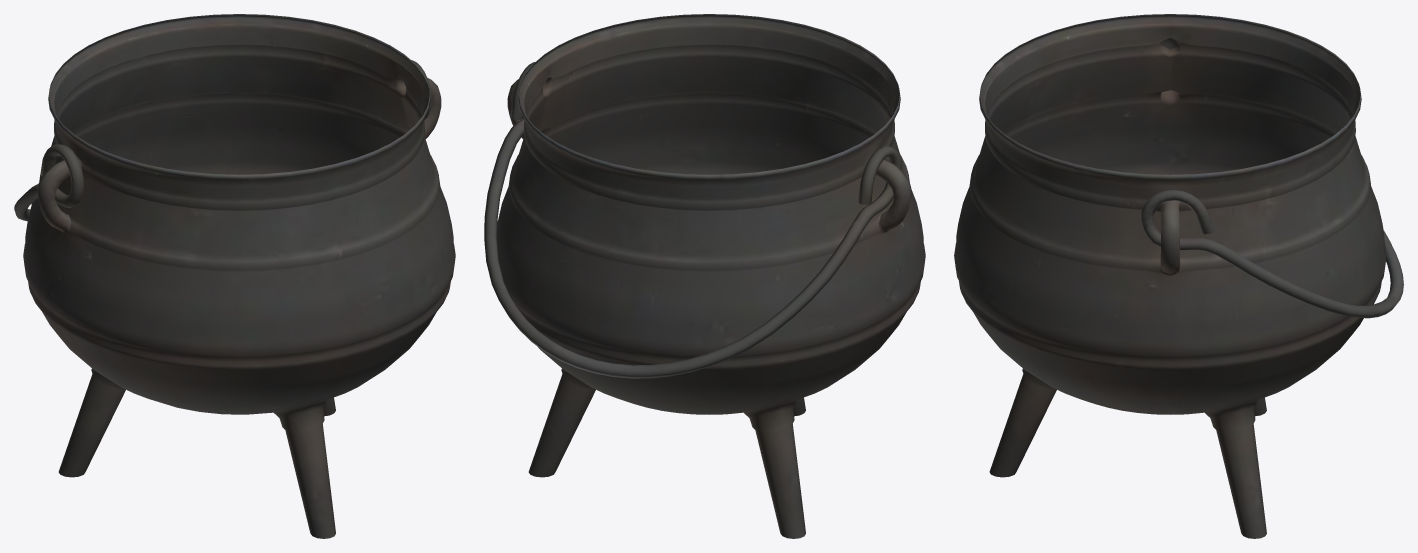
File: cauldron.glb
3 renders of one model, left to right at view 1: azimuth 30°, elevation 25°; view 2: azimuth 150°, elevation 25°; view 3: azimuth 270°, elevation 25°, orthographic.
Parts seen in each view (by area): view 1: SM_Cookware_01c; view 2: SM_Cookware_01c; view 3: SM_Cookware_01c.
Boxes of the visible parts, x1=… form: SM_Cookware_01c: x1=14, y1=14, x2=455, y2=538; SM_Cookware_01c: x1=484, y1=14, x2=925, y2=538; SM_Cookware_01c: x1=954, y1=14, x2=1403, y2=538.
Bounding box in the file's own units: 0.2451 × 0.2201 × 0.2376.
Materials: 1 (1 with a texture image).
